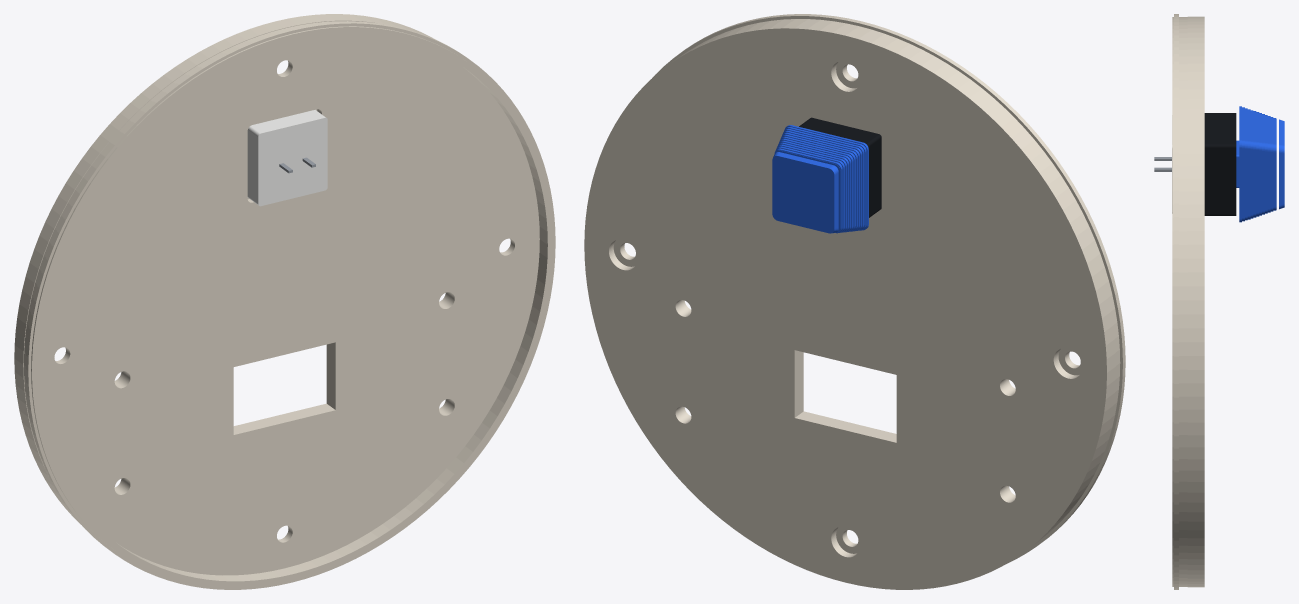
File: plate-4-head.glb
3 renders of one model, left to right at view 1: azimuth 30°, elevation 25°; view 2: azimuth 150°, elevation 25°; view 3: azimuth 270°, elevation 25°, orthographic. The views are drawn at different scales.
Parts seen in each view (by area): view 1: lid, mx-body; view 2: lid, keycap, mx-upper; view 3: lid, keycap, mx-upper.
Part boxes in pixels (x1,y1,x2,y2): lid: (14, 14, 555, 589); mx-body: (247, 109, 327, 206); lid: (584, 14, 1125, 589); keycap: (772, 125, 868, 233); mx-upper: (799, 117, 881, 217); lid: (1172, 14, 1204, 589); keycap: (1239, 106, 1284, 222); mx-upper: (1204, 113, 1236, 215).
Size of the model in its own units: 114 by 114 by 25.8.
